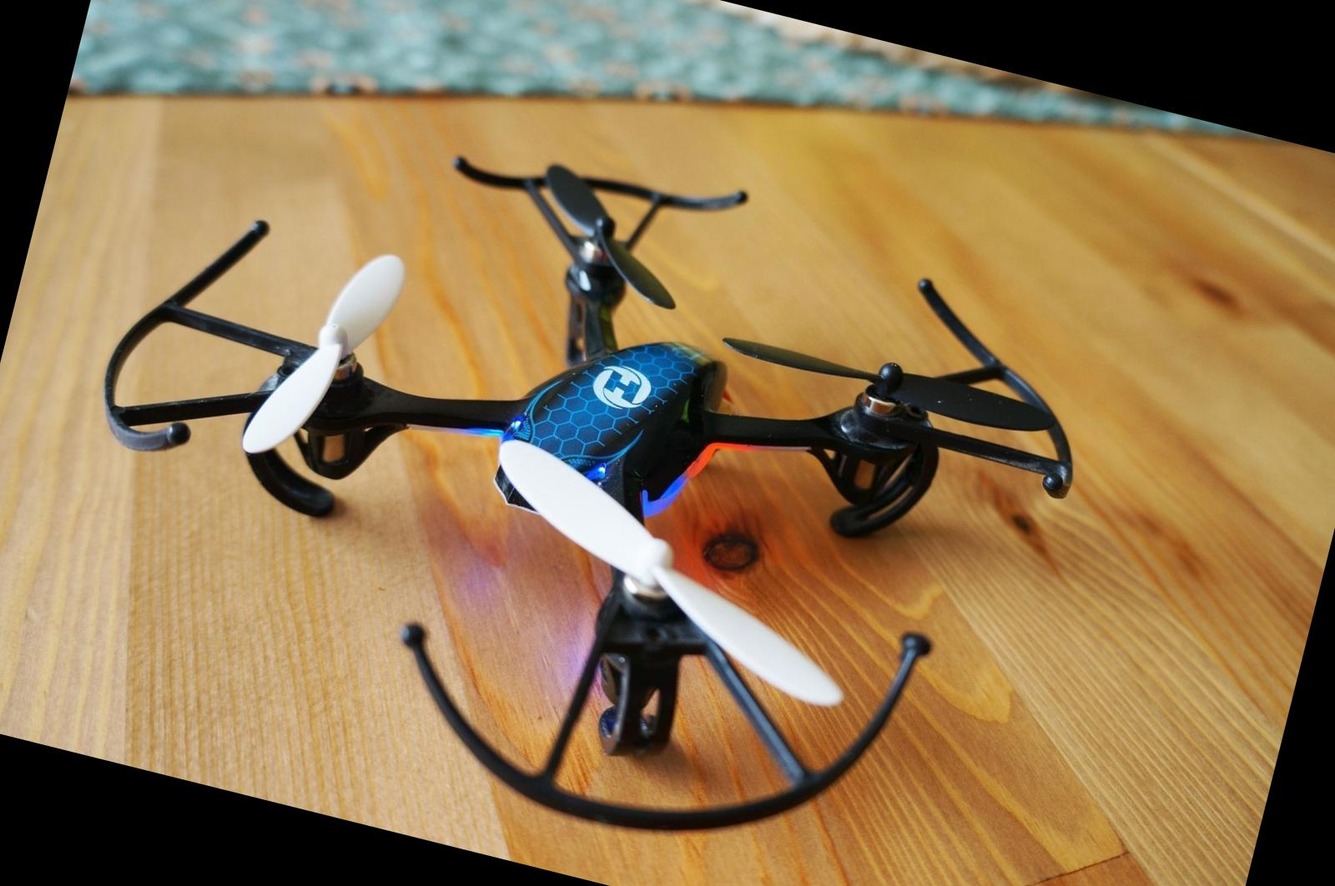drone: (0, 20, 1128, 886)
